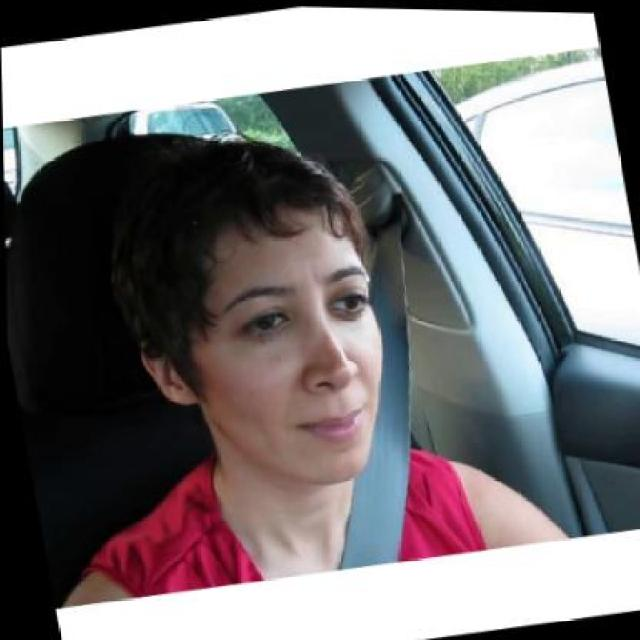attentif: (100, 120, 406, 512)
